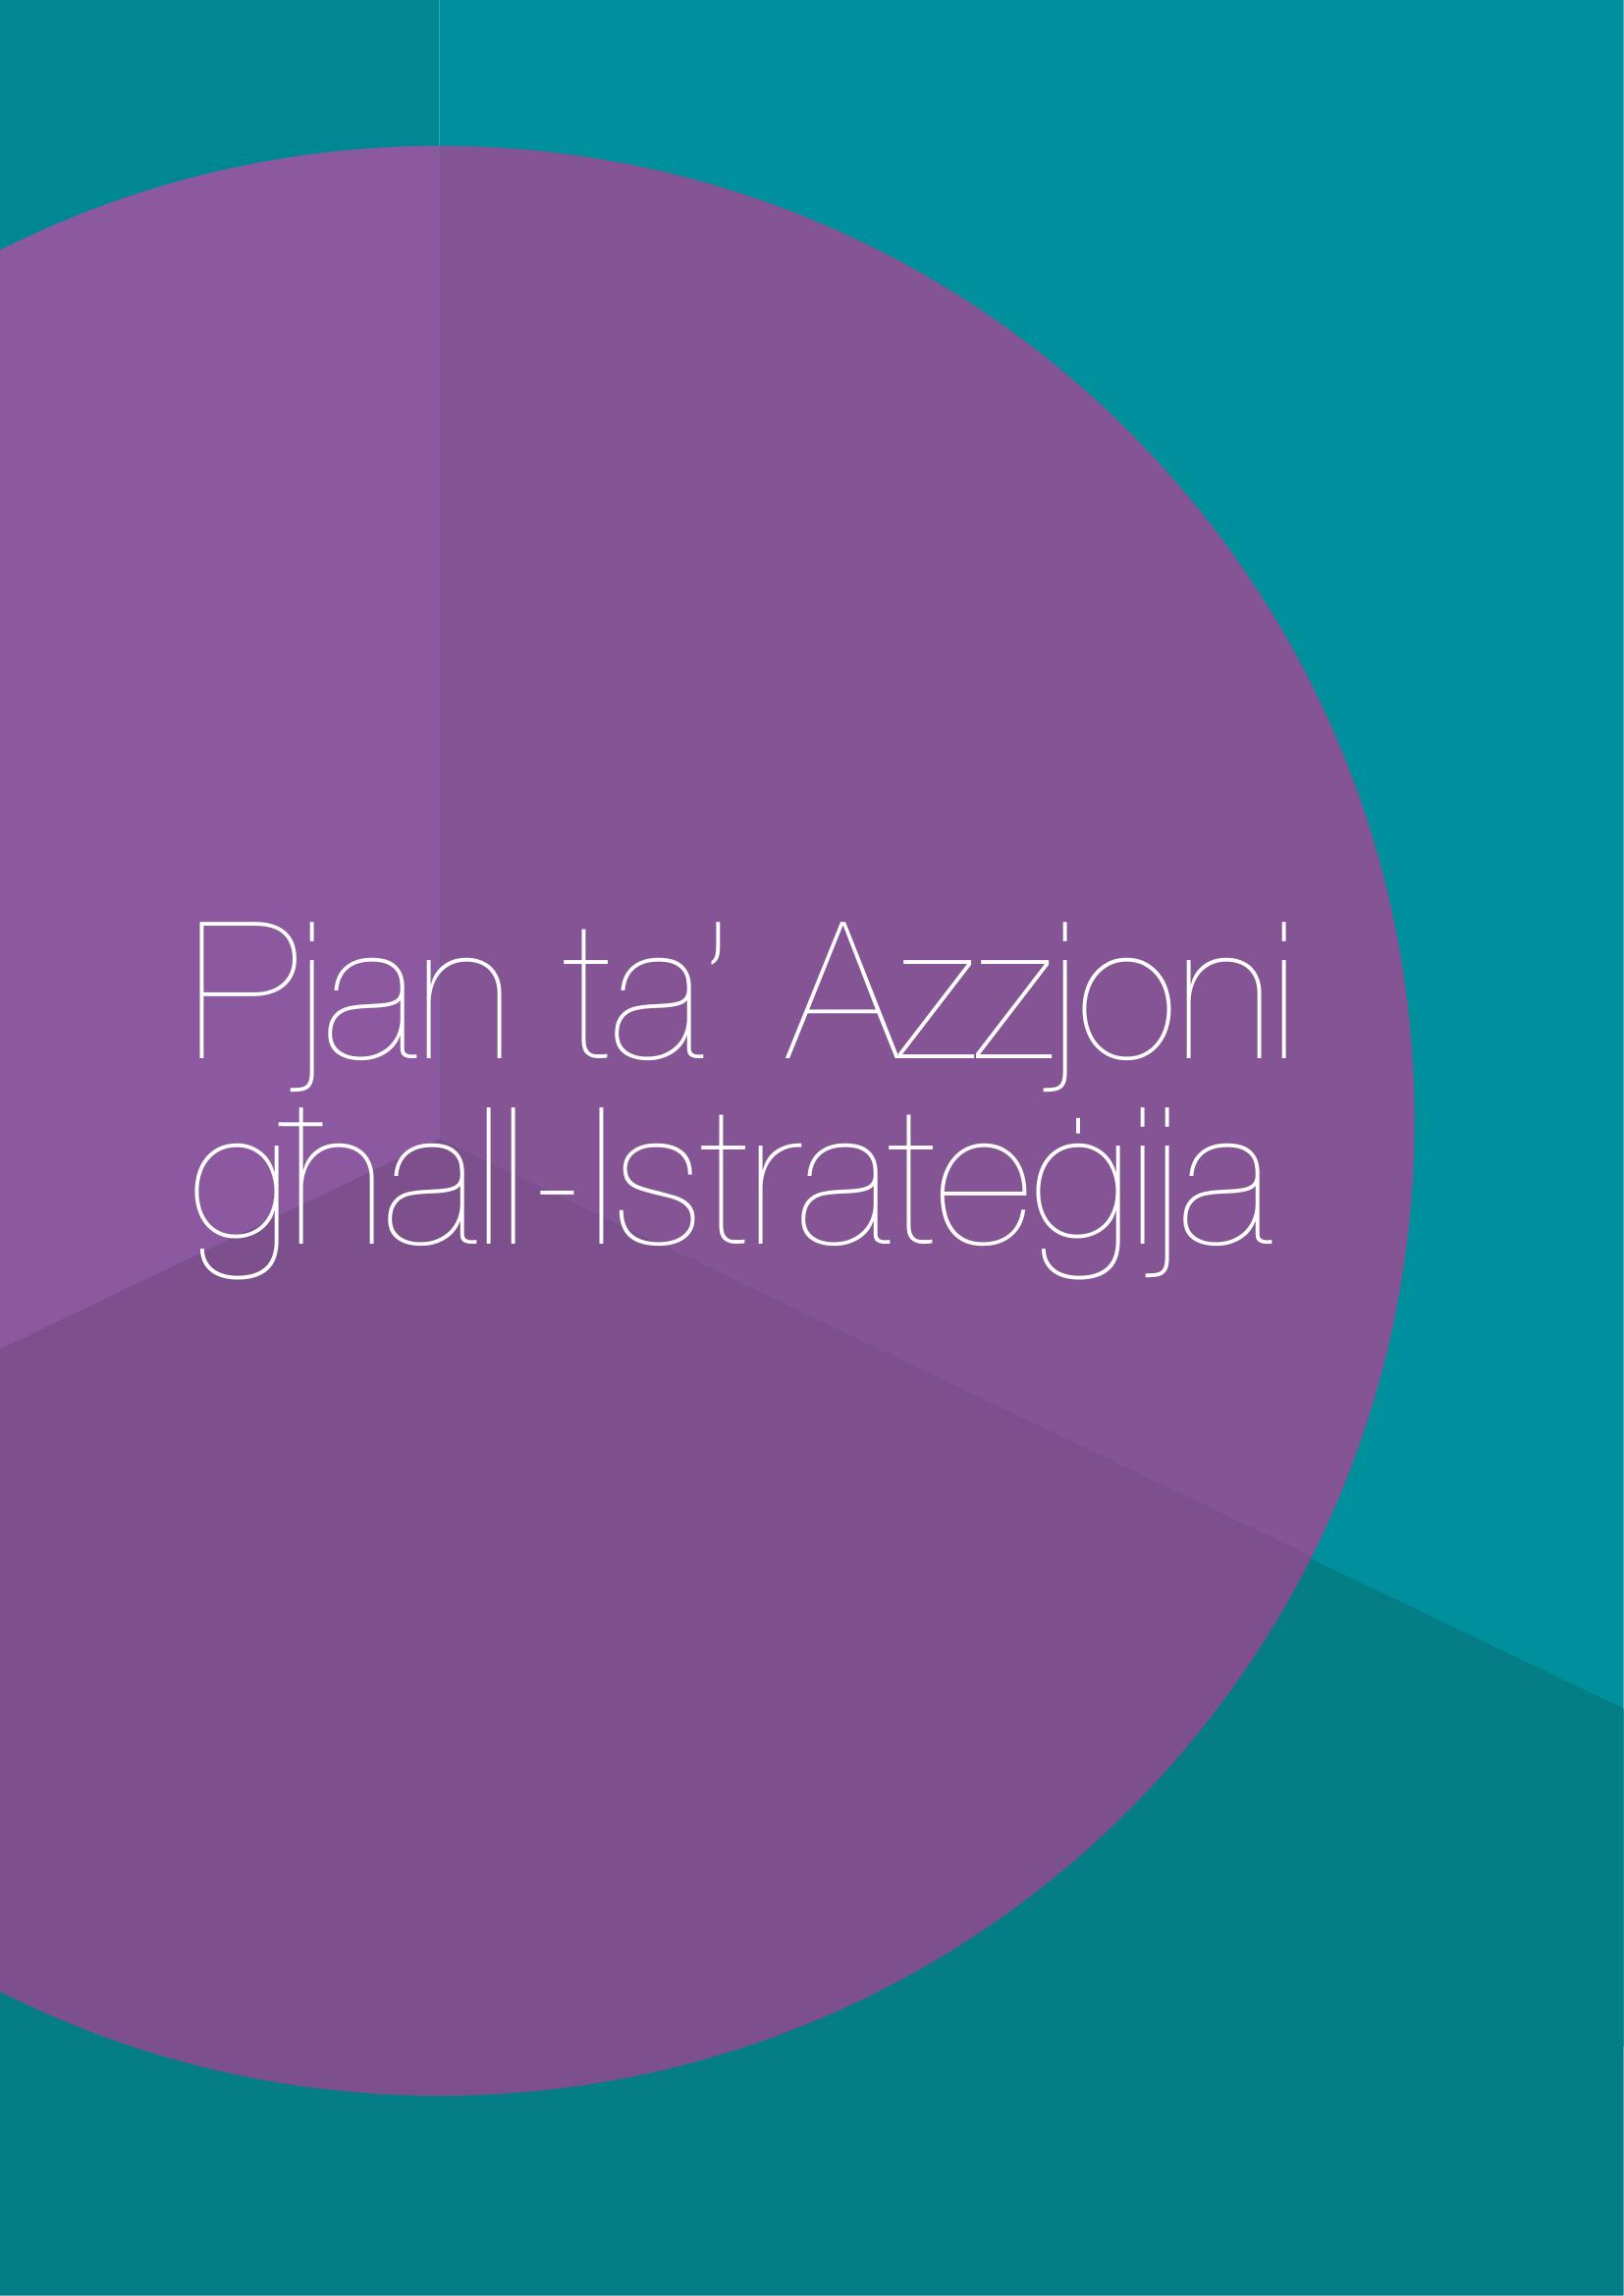text: (144, 861, 1316, 1347)
